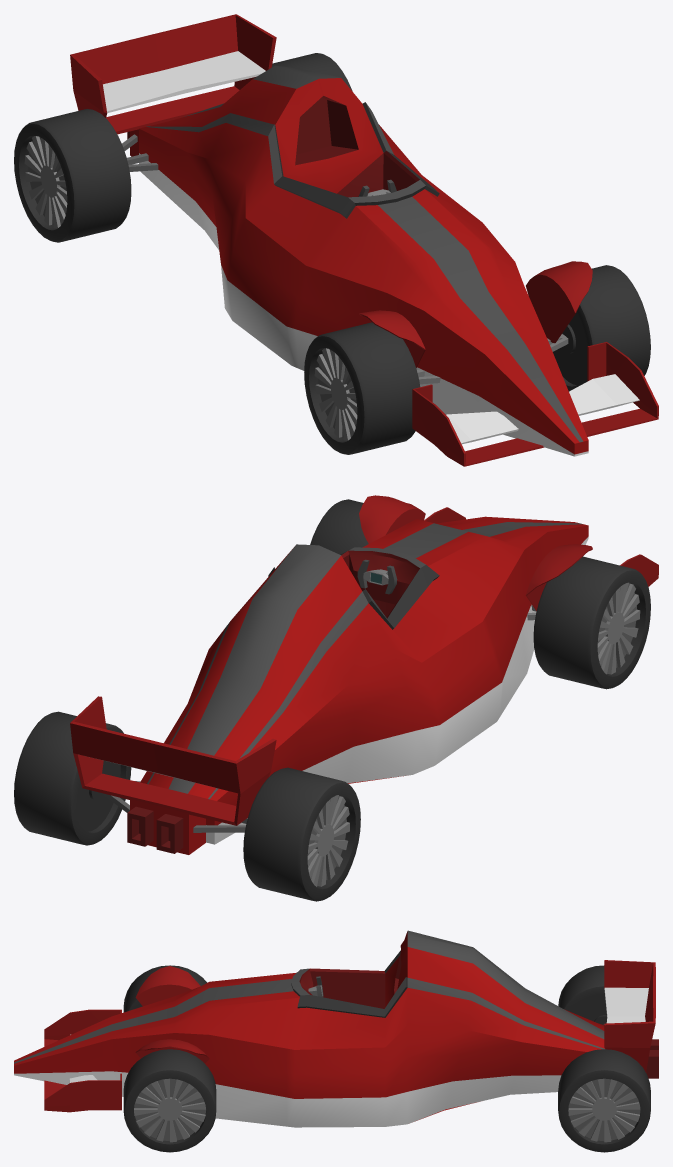
Rendered from race-car.glb.
3 views of the same model, one above another, from view 1: azimuth 30°, elevation 25°; view 2: azimuth 150°, elevation 25°; view 3: azimuth 270°, elevation 25° (orthographic). The views are drawn at different scales.
Visible parts, largest first — view 1: body, RearRightTire, FrontRightTire, FrontLeftTire, RearLeftTire; view 2: body, RearRightTire, FrontRightTire, RearLeftTire, FrontLeftTire; view 3: body, FrontLeftTire, RearLeftTire, RearRightTire, FrontRightTire.
Part boxes in pixels (x1=…): body: x1=70, y1=14, x2=658, y2=466; RearRightTire: x1=14, y1=109, x2=131, y2=242; FrontRightTire: x1=304, y1=322, x2=420, y2=454; FrontLeftTire: x1=553, y1=265, x2=650, y2=391; RearLeftTire: x1=272, y1=53, x2=352, y2=91; body: x1=70, y1=495, x2=658, y2=854; RearRightTire: x1=243, y1=767, x2=360, y2=901; FrontRightTire: x1=533, y1=556, x2=650, y2=689; RearLeftTire: x1=14, y1=711, x2=131, y2=845; FrontLeftTire: x1=310, y1=499, x2=368, y2=554; body: x1=14, y1=930, x2=658, y2=1127; FrontLeftTire: x1=123, y1=1049, x2=216, y2=1152; RearLeftTire: x1=558, y1=1049, x2=650, y2=1152; RearRightTire: x1=558, y1=965, x2=607, y2=1024; FrontRightTire: x1=123, y1=965, x2=207, y2=1012.
Size of the model in its own units: 1.17 by 0.8557 by 3.02.
Materials: 1 (1 with a texture image).
